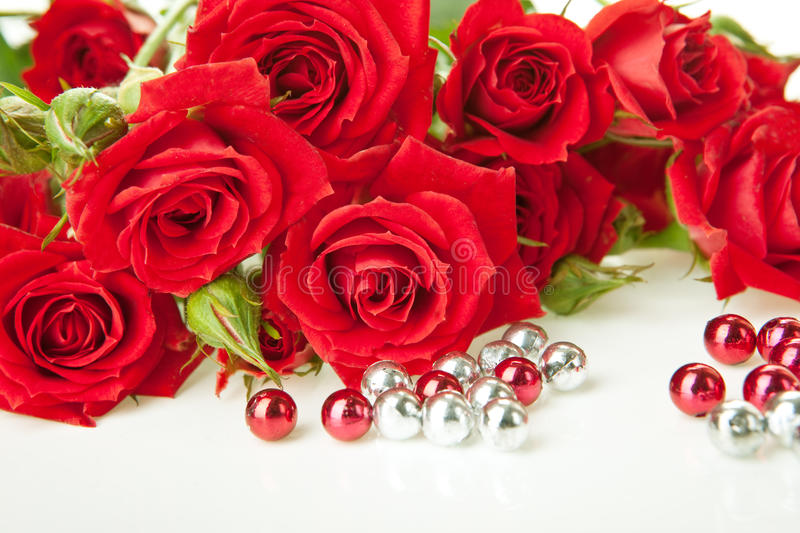RedRose: (246, 163, 514, 351), (0, 220, 194, 423), (104, 84, 315, 270), (197, 0, 417, 146), (559, 0, 758, 136), (448, 40, 613, 175), (698, 89, 800, 285), (29, 0, 154, 110)
